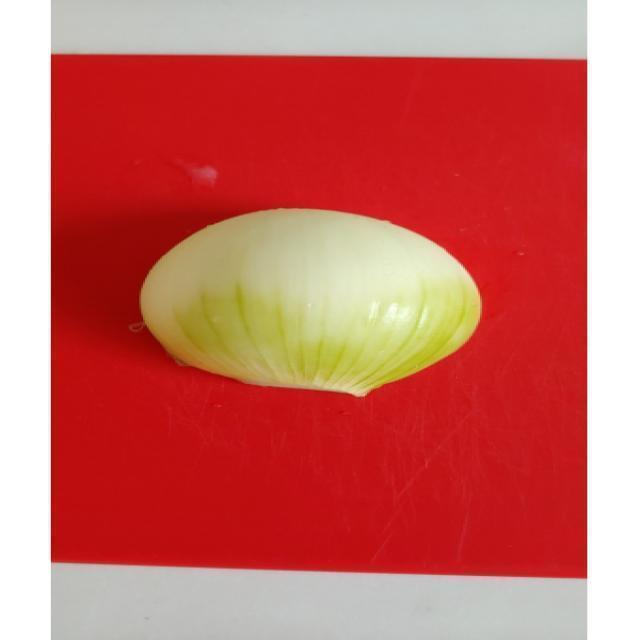Onion: (143, 209, 482, 395)
